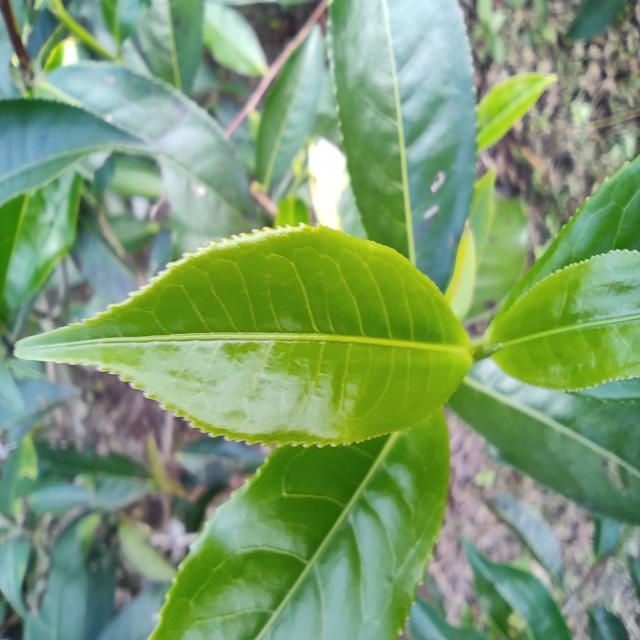Category B(2-4 days): (9, 192, 488, 470)
